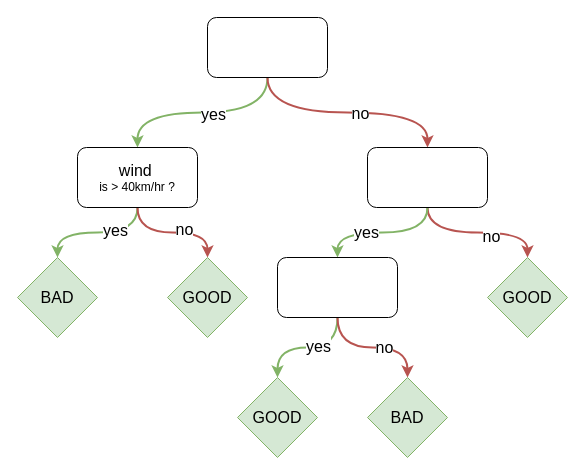
Some shapes in this 585 by 475 pixel diagram are drawn without their labels. Here are the shapes that lost their labels. From the top down, the centre of each, then its label:
At [267,47]: "Rain".
At [427,177]: "Cloud".
At [337,287]: "Temp is < 40 deg ?".
